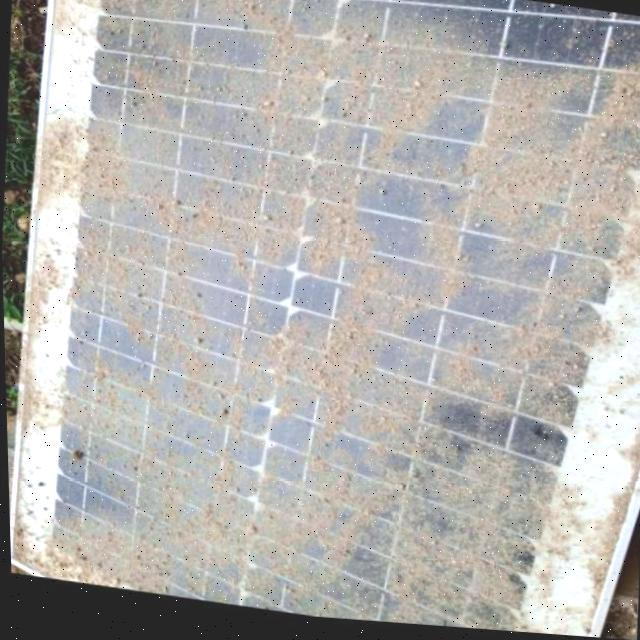Anomaly Solar Panel: (55, 0, 634, 640)
Surface Contaminant: (69, 0, 626, 636)
